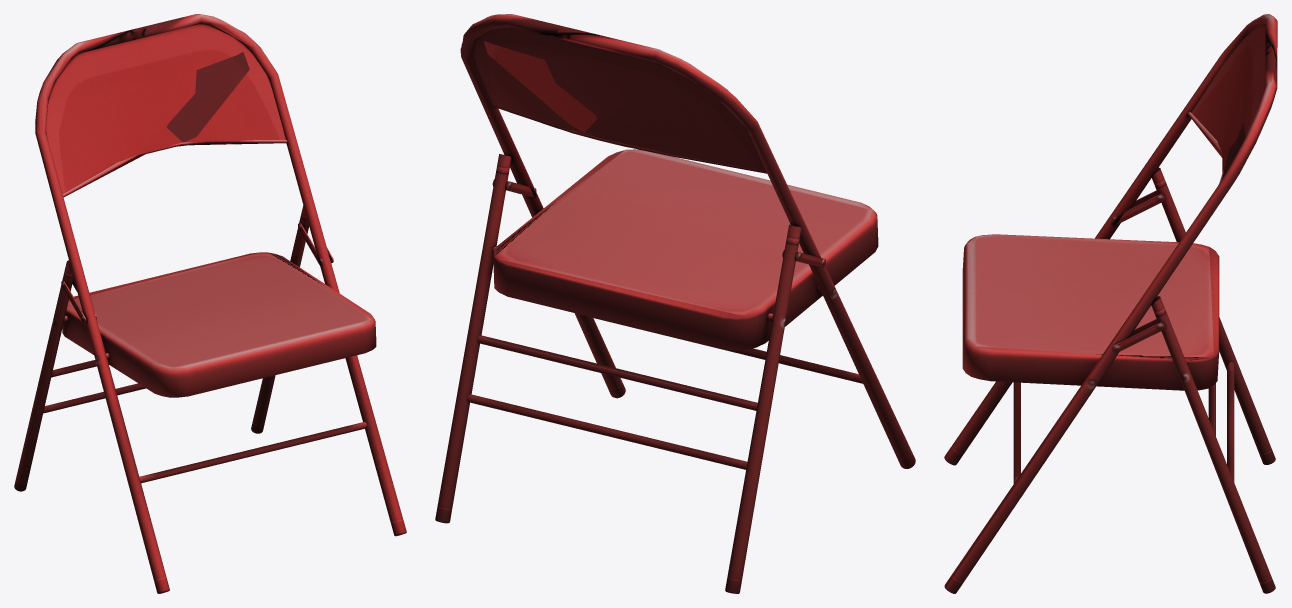
Rendered from FoldChair.fbx.
3 views of the same model, side by side, from view 1: azimuth 30°, elevation 25°; view 2: azimuth 150°, elevation 25°; view 3: azimuth 270°, elevation 25° (orthographic). The views are drawn at different scales.
Parts seen in each view (by area): view 1: 10227_Folding_Chair_metal_v2_Iterations-2; view 2: 10227_Folding_Chair_metal_v2_Iterations-2; view 3: 10227_Folding_Chair_metal_v2_Iterations-2.
Boxes of the visible parts, x1,y1,x2,y2 form: 10227_Folding_Chair_metal_v2_Iterations-2: (14, 14, 406, 593); 10227_Folding_Chair_metal_v2_Iterations-2: (435, 14, 915, 593); 10227_Folding_Chair_metal_v2_Iterations-2: (944, 14, 1277, 593).
Size of the model in its own units: 4554 by 7562 by 4763.
